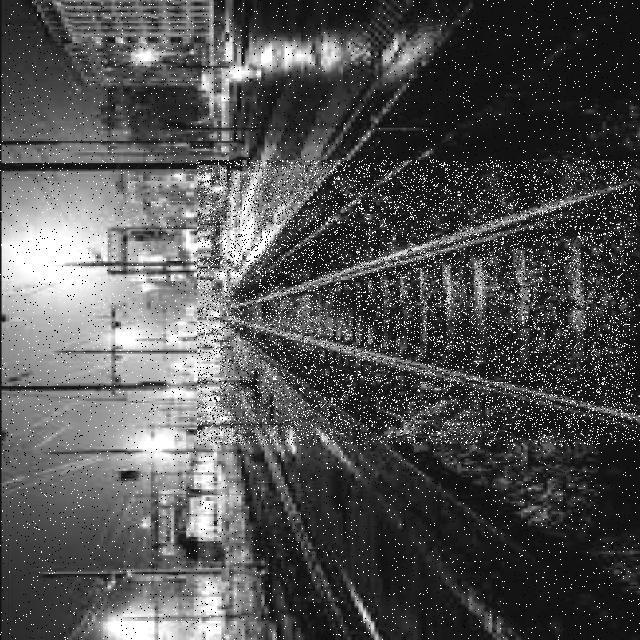rail: (198, 161, 637, 445)
